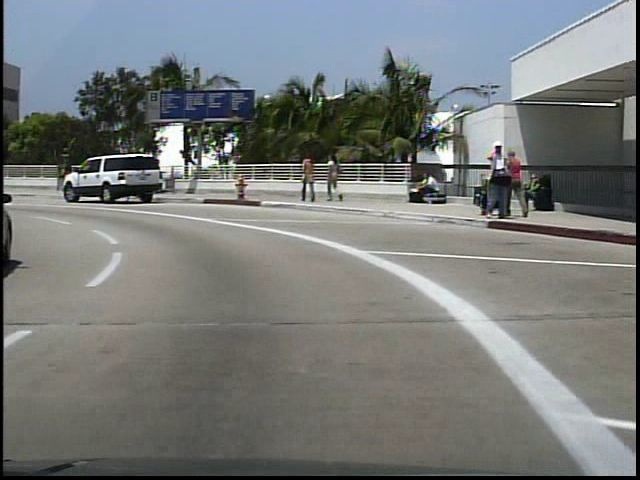person: (482, 138, 507, 223), (505, 146, 525, 222), (324, 153, 345, 207), (298, 148, 317, 206), (412, 173, 437, 207)
